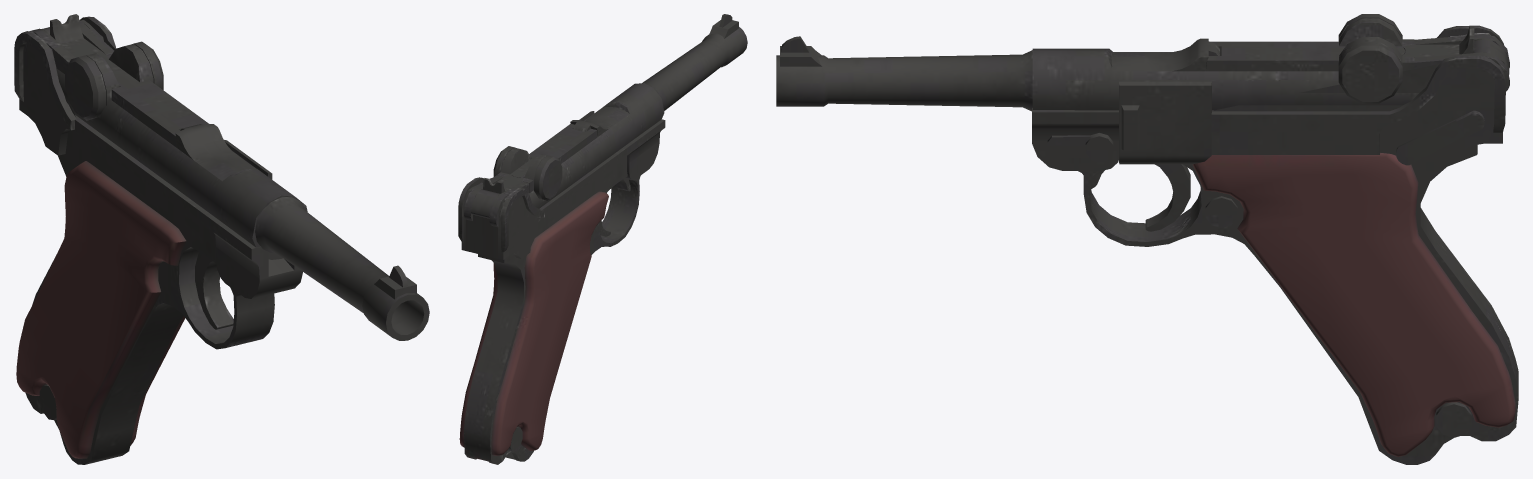
File: bunker47-gun-luger.glb
The picture shows the model from 3 angles, left to right: view 1: azimuth 30°, elevation 25°; view 2: azimuth 150°, elevation 25°; view 3: azimuth 270°, elevation 25°; orthographic projection. The views are drawn at different scales.
Parts seen in each view (by area): view 1: Body, Barrel, Slide, Part3, Part2, Part1, Trigger; view 2: Body, Slide, Barrel, Part3, Part2, Part1; view 3: Body, Barrel, Slide, Part3, Part2, Part1, Trigger.
Boxes of the visible parts, x1=… form: Body: x1=14, y1=16, x2=302, y2=464; Barrel: x1=255, y1=197, x2=429, y2=340; Slide: x1=56, y1=68, x2=307, y2=259; Part3: x1=41, y1=14, x2=163, y2=120; Part2: x1=105, y1=59, x2=208, y2=147; Part1: x1=175, y1=124, x2=255, y2=181; Trigger: x1=195, y1=252, x2=233, y2=329; Body: x1=458, y1=111, x2=665, y2=464; Slide: x1=529, y1=83, x2=664, y2=208; Barrel: x1=642, y1=14, x2=747, y2=110; Part3: x1=471, y1=146, x2=562, y2=218; Part2: x1=510, y1=124, x2=597, y2=177; Part1: x1=570, y1=107, x2=628, y2=136; Body: x1=1032, y1=25, x2=1518, y2=464; Barrel: x1=776, y1=36, x2=1032, y2=111; Slide: x1=1032, y1=48, x2=1418, y2=110; Part3: x1=1338, y1=14, x2=1509, y2=103; Part2: x1=1206, y1=41, x2=1405, y2=71; Part1: x1=1111, y1=38, x2=1219, y2=71; Trigger: x1=1090, y1=164, x2=1190, y2=231.
Size of the model in its own units: 2.82 by 15.03 by 23.75.
Materials: 1 (1 with a texture image).
